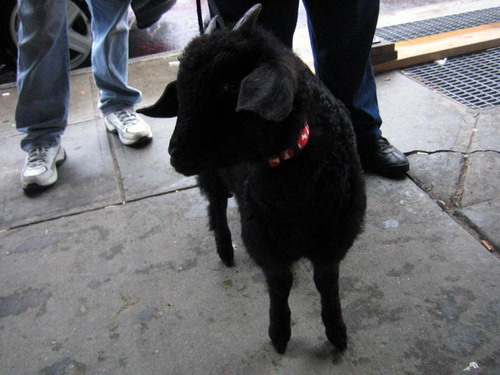goat: (134, 4, 368, 357)
